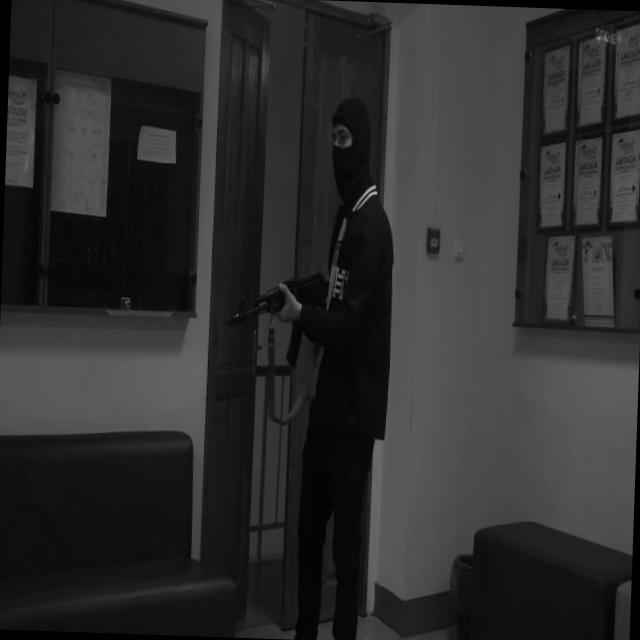gun: (223, 266, 350, 370)
person with a gun: (213, 93, 399, 640)
